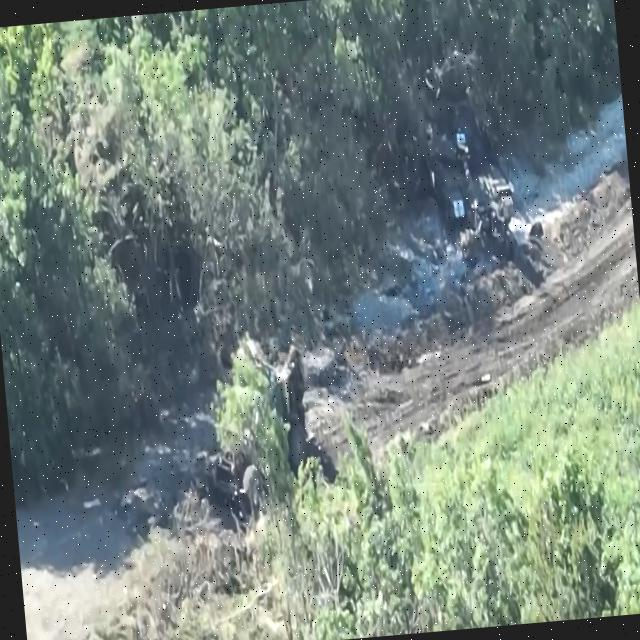MBT: (424, 88, 521, 248)
Vehicle: (195, 339, 320, 518)
